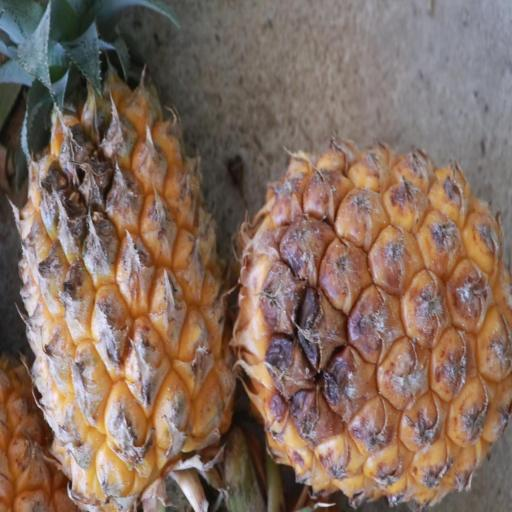Pineapple - v8 v1: (14, 4, 234, 512), (238, 143, 512, 512)
